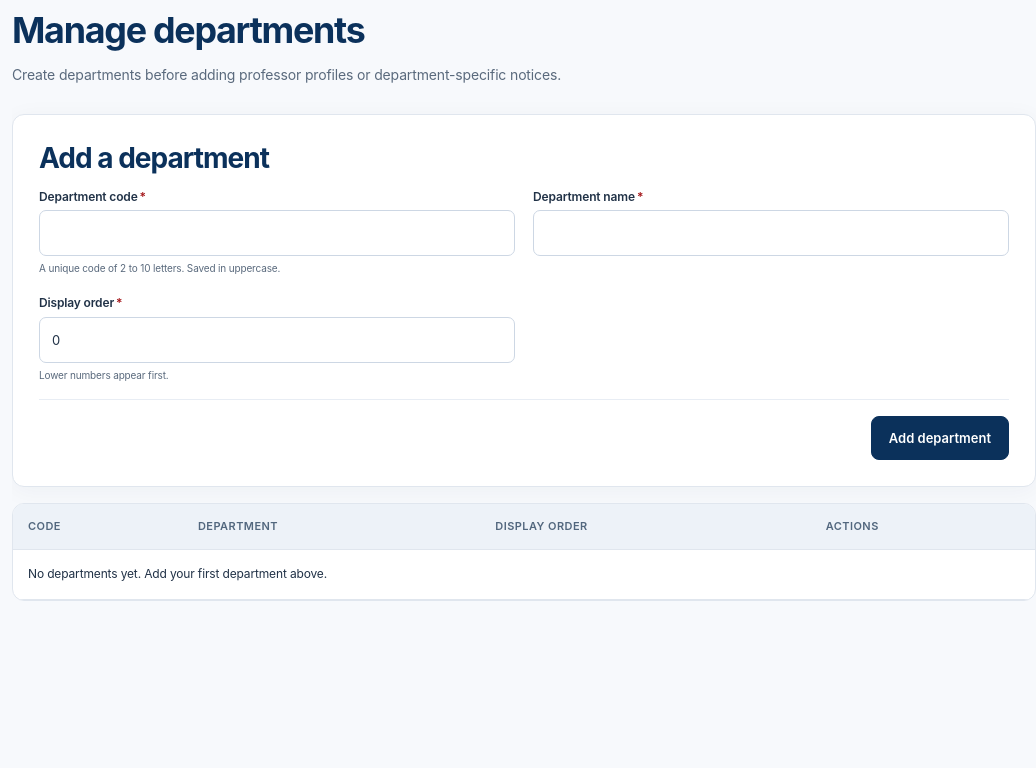
it: department management › creates the first department only after a successful save and refreshes the list
The width and height of the screenshot is (1036, 768).
expect the text "No departments yet. Add your first department above." is shown: met, box [13,550,1035,599]
Step 1. Type "eng" into the field labelled "Department code*" → x=277, y=234, box [39,210,515,256]
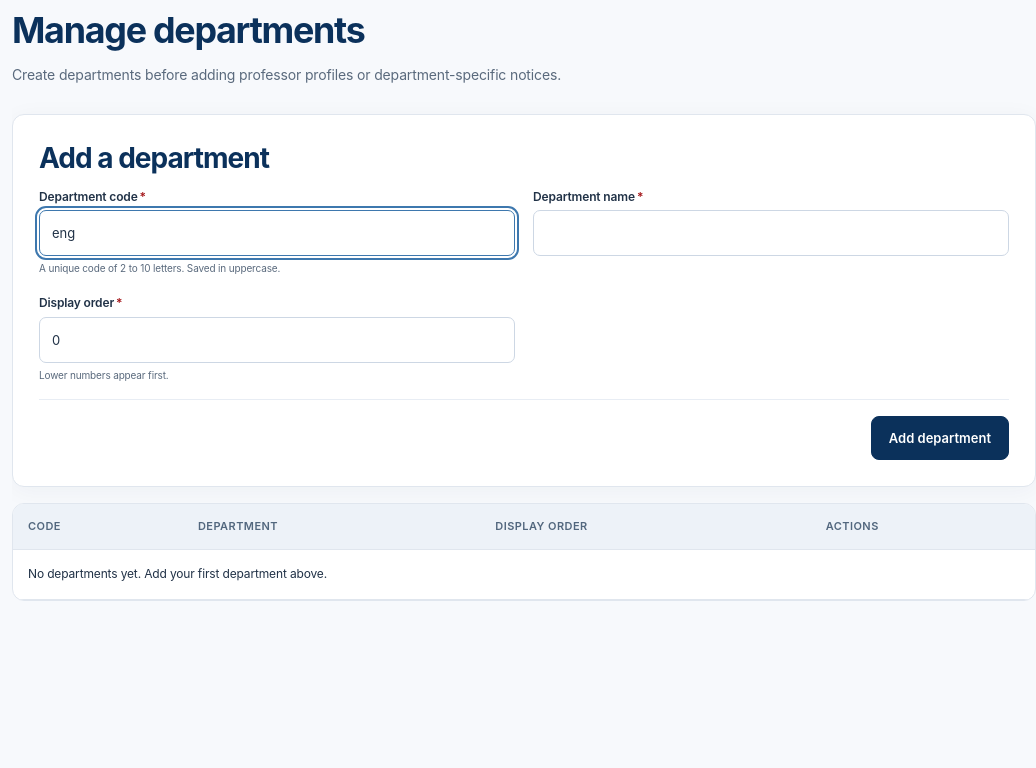
Step 2. Type "Engineering" into the field labelled "Department name*" → x=771, y=234, box [533,210,1009,256]
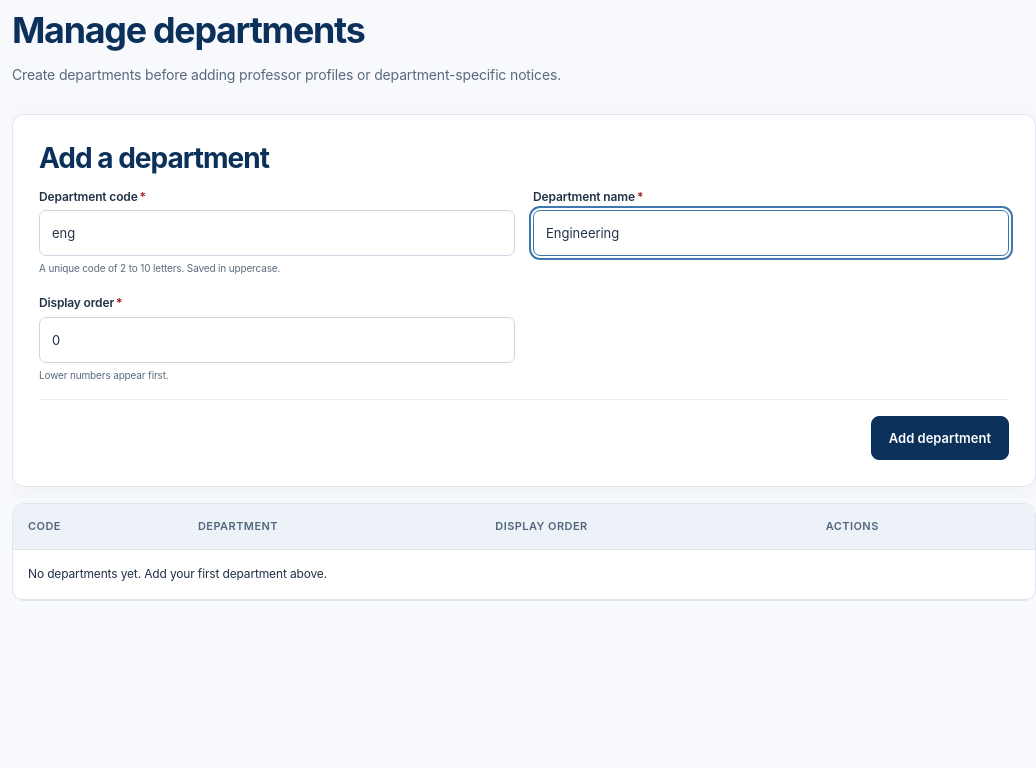
Step 3. Replace the text in the number field labelled "Display order*" with "2" → x=277, y=340, box [39,317,515,363]
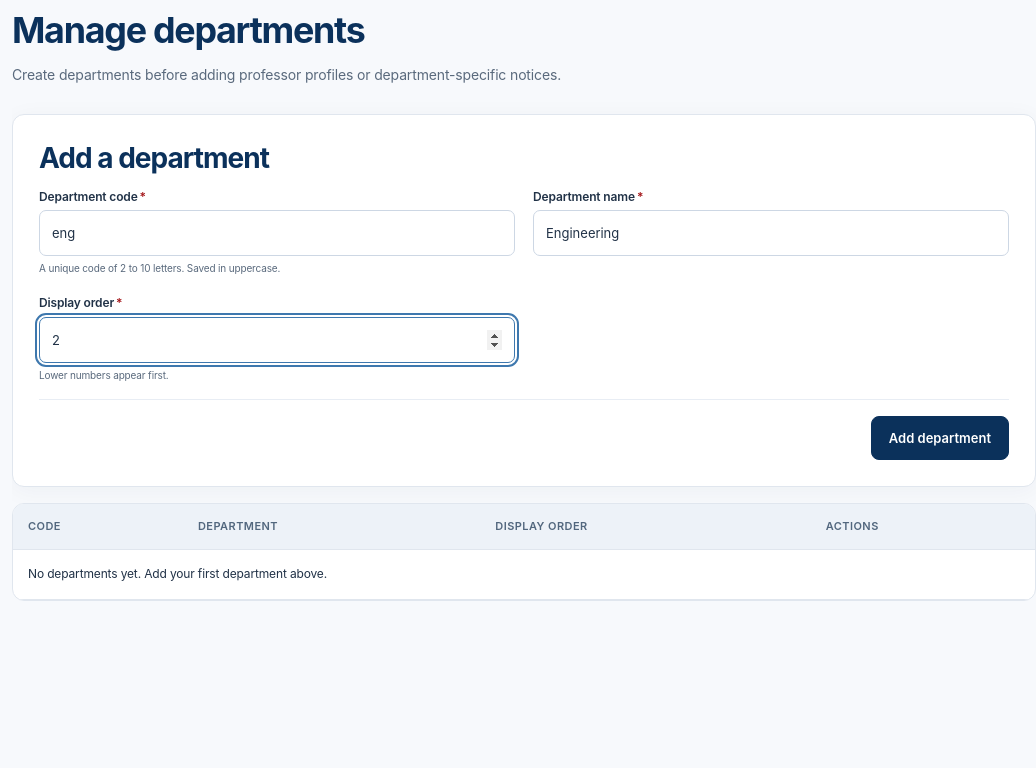
Step 4. Click the button "Add department" → x=940, y=438, box [871,416,1009,460]
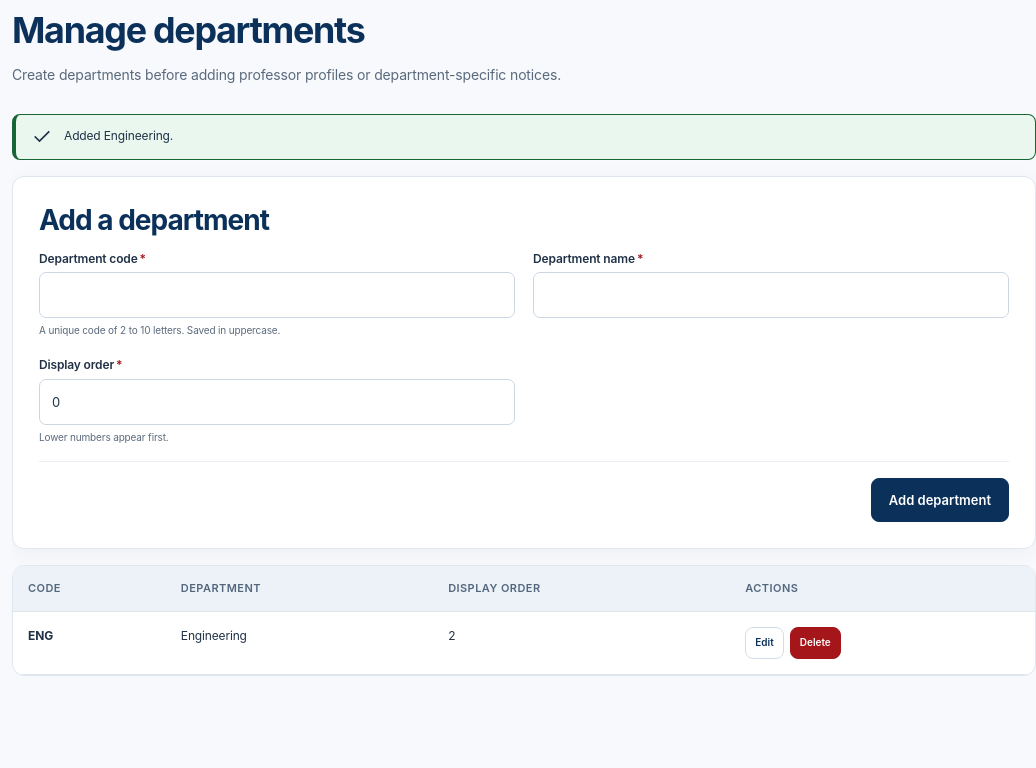
expect the button with aria-label "Edit ENG" is shown: met, box [745,627,784,659]
expect the field labelled "Department code*" is empty: met, box [39,272,515,318]
